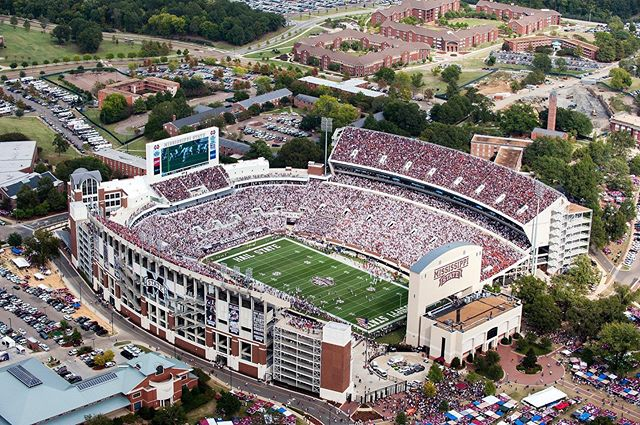building: (51, 125, 595, 379), (292, 25, 428, 85), (382, 1, 553, 44), (92, 67, 194, 120)
vegetation: (1, 1, 268, 53)
